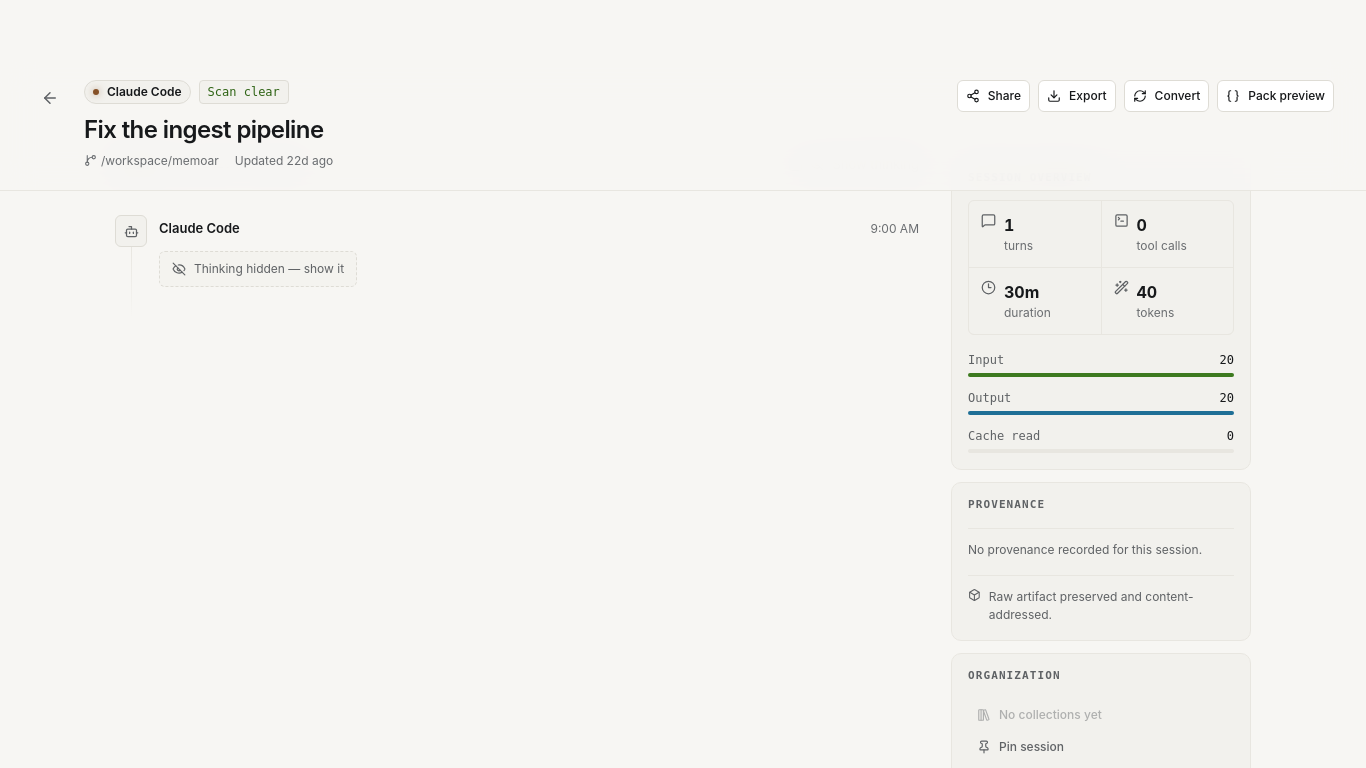
Test: a hidden thinking block › reveals thinking when the button offering to is pressed
This screenshot has width=1366, height=768.
Check: the text "Weighing two parsers" is not shown
What coordinates should you click on to do the following:
click the button "Thinking hidden — show it"
I would click on:
 (258, 269)
Its box is [159,251,357,287].
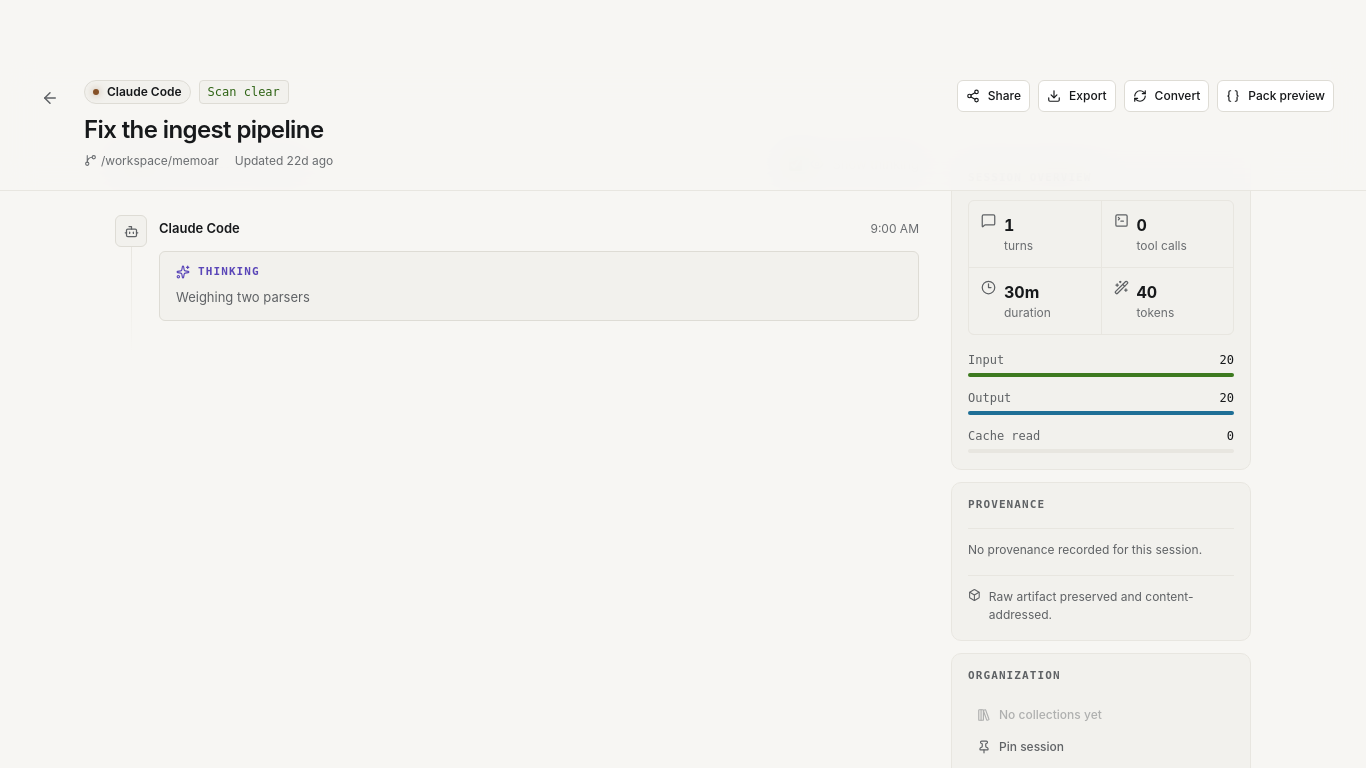
Check: the text "Weighing two parsers" is shown, box [176,289,310,305]
